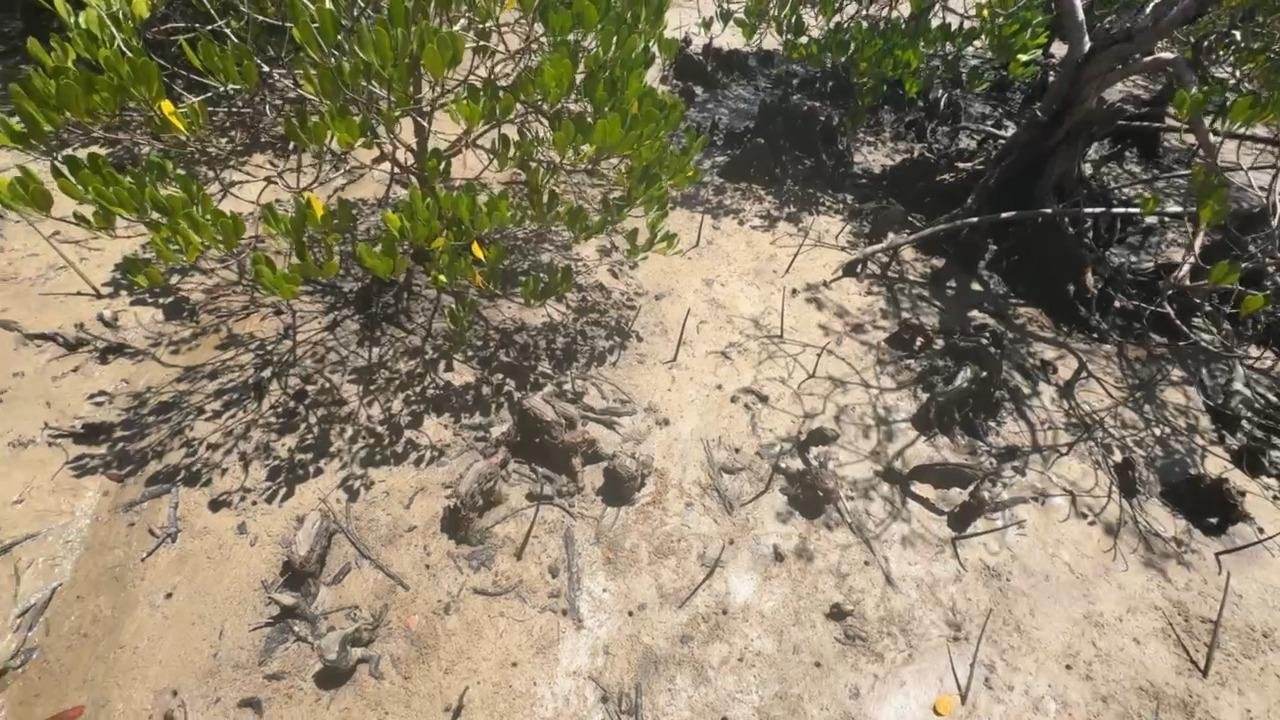Tree: (19, 213, 101, 296), (1202, 570, 1231, 677), (961, 607, 992, 706), (515, 483, 543, 560), (1214, 531, 1280, 555), (952, 519, 1027, 540), (787, 218, 815, 272), (674, 308, 691, 360), (764, 446, 784, 490), (812, 341, 832, 378), (710, 544, 727, 572), (695, 206, 705, 246), (458, 686, 470, 712), (780, 287, 786, 338), (836, 220, 850, 237)
